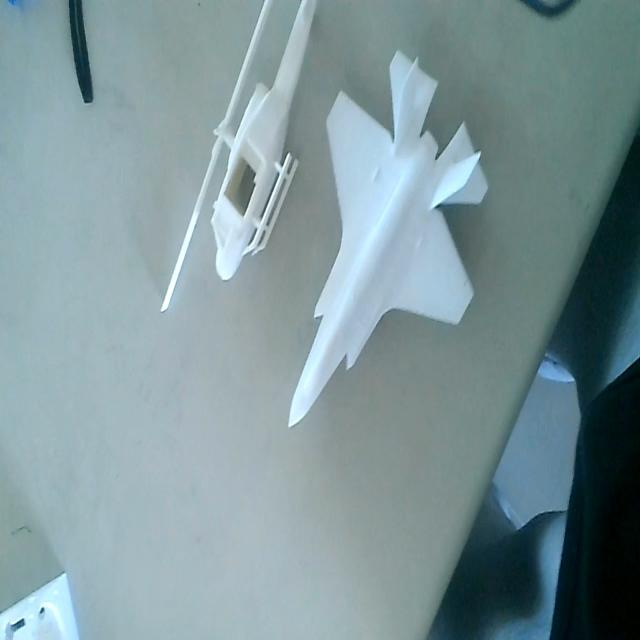Helicopter: (154, 0, 318, 314)
Jet: (290, 50, 489, 427)
